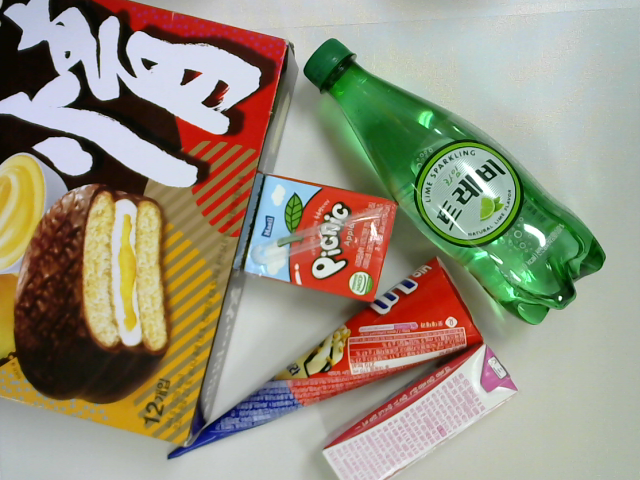Choco_Pie_Banana: (2, 1, 304, 467)
Picnic_Apple: (238, 167, 396, 310)
Strawberry_E_Mong: (322, 333, 522, 480)
Treviraim_500ml: (292, 31, 612, 327)
World_Cone_Banila: (155, 252, 492, 480)
